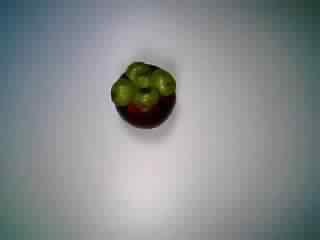mangosteen: (108, 55, 186, 130)
